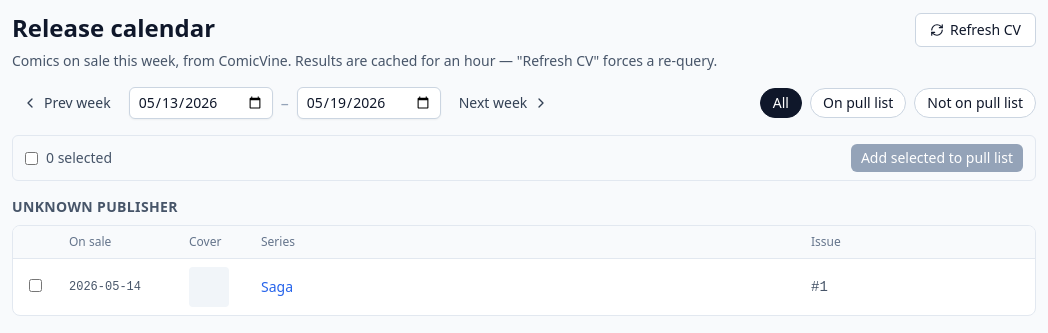
release calendar page › bulk-adds selected volumes and flips their rows
Click the checkbox named "Select all addable volumes": (32, 158) x1=25 y1=152 x2=38 y2=164
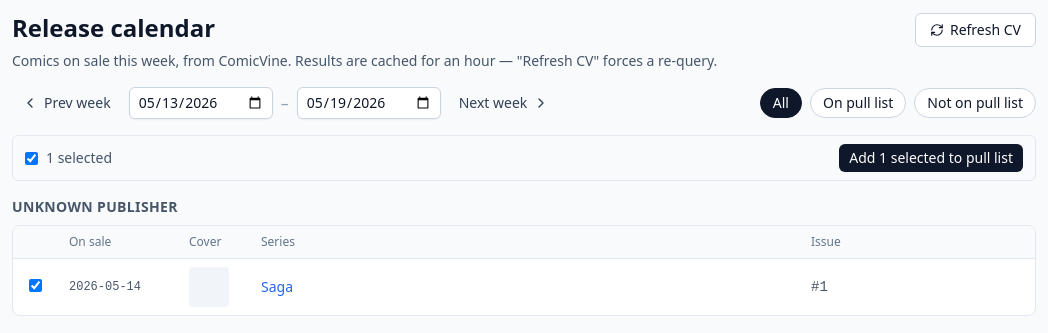
Click the button "Add 1 selected to pull list": (931, 158) x1=839 y1=144 x2=1023 y2=172
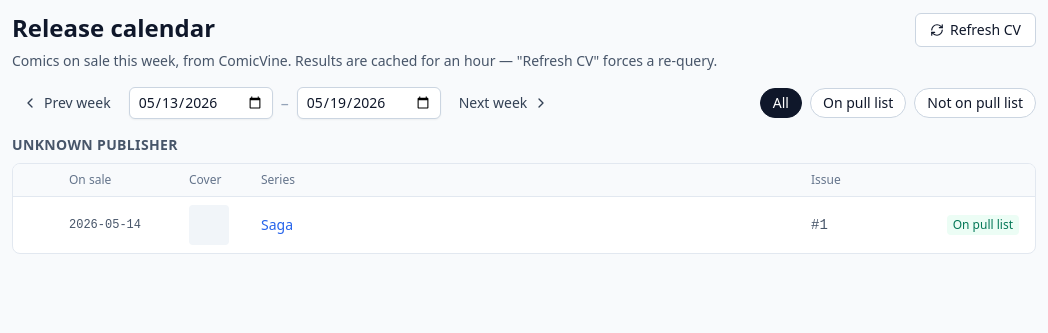
Now the text "On pull list" is shown, box x1=947 y1=215 x2=1019 y2=235
